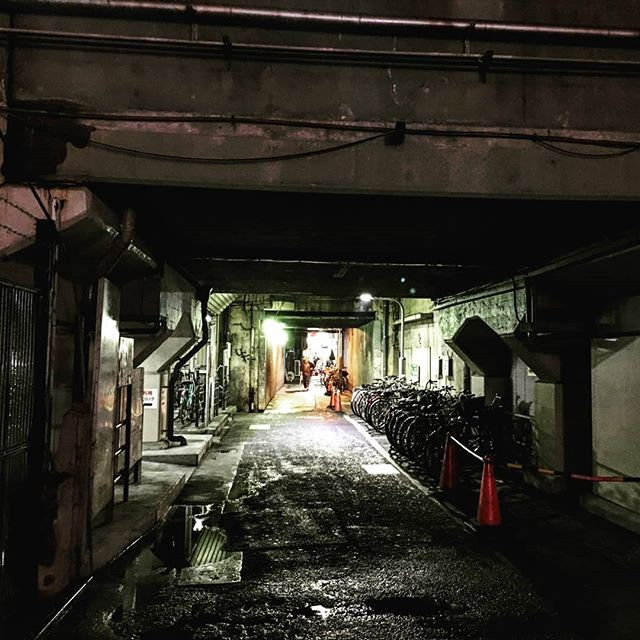building: (1, 200, 217, 601)
street: (91, 401, 536, 640)
traffic cone: (463, 451, 514, 531), (426, 431, 469, 497)
